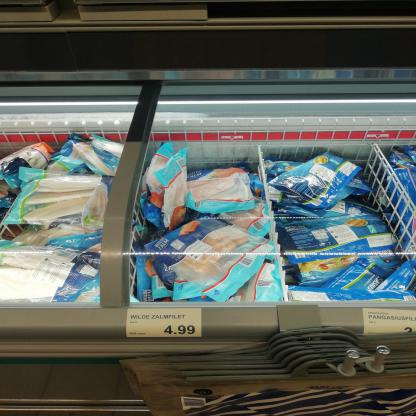prtg: (127, 309, 203, 338), (363, 308, 415, 334)
